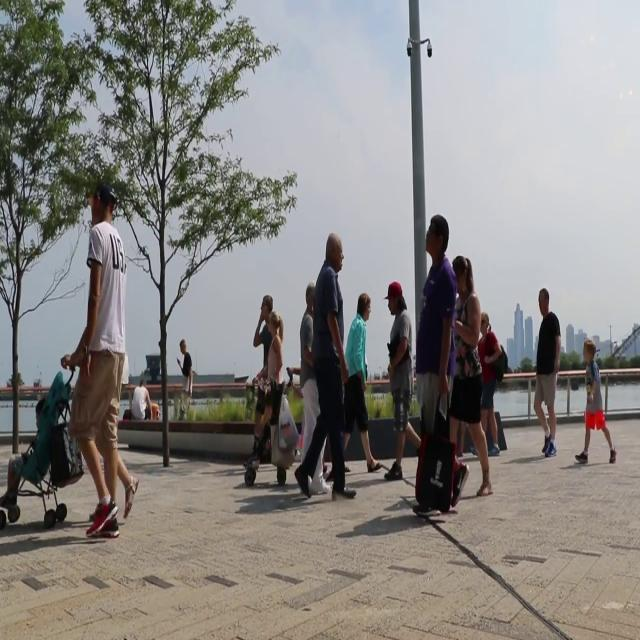normal: (72, 183, 134, 546), (295, 221, 359, 507), (415, 212, 465, 530), (381, 278, 428, 483), (254, 291, 288, 480), (573, 335, 618, 469), (531, 281, 564, 457)
